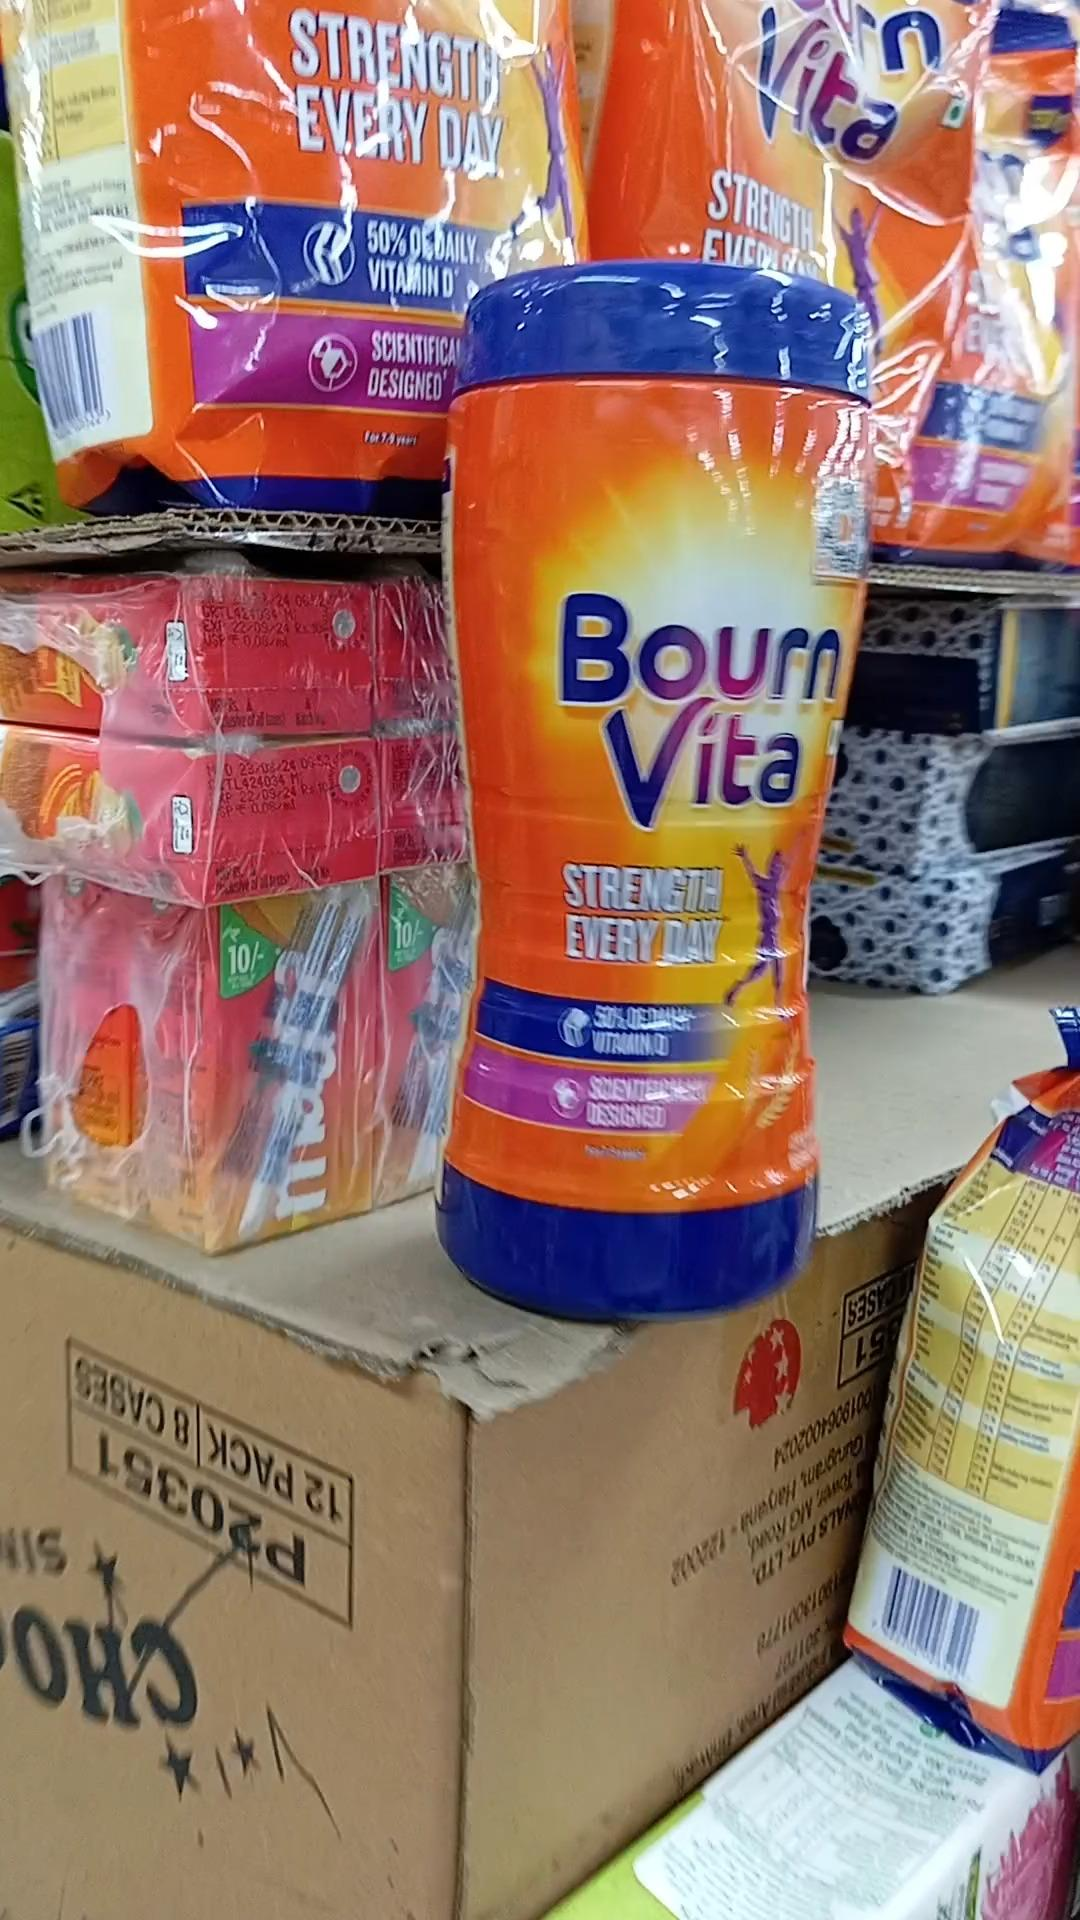BOURN_VITA_500_G_JAR: (430, 240, 870, 1331)
